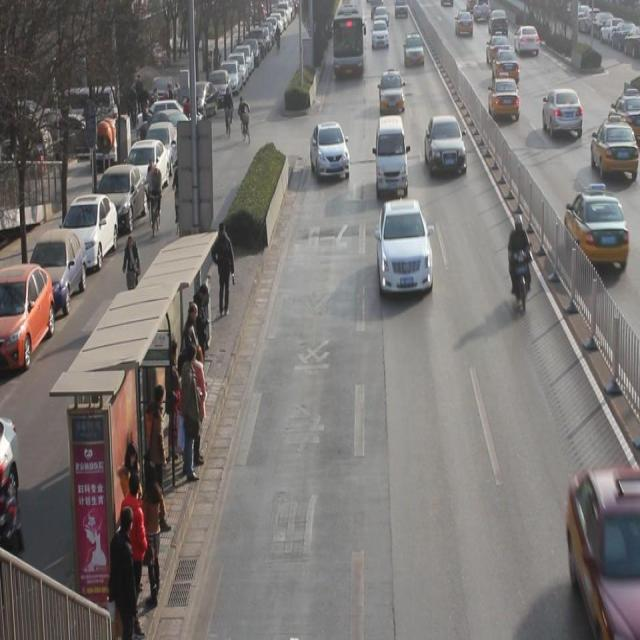car: (568, 466, 640, 626), (566, 183, 629, 270), (378, 198, 432, 294), (590, 114, 640, 181), (424, 114, 466, 176), (310, 121, 350, 180), (543, 86, 583, 138), (610, 89, 640, 140), (489, 73, 520, 119), (378, 69, 405, 112), (492, 44, 519, 80), (514, 22, 540, 54), (404, 31, 424, 66), (486, 33, 510, 61), (488, 6, 509, 33), (455, 7, 474, 36), (372, 18, 389, 47)
truck: (376, 115, 408, 192)
van: (333, 1, 363, 76)
